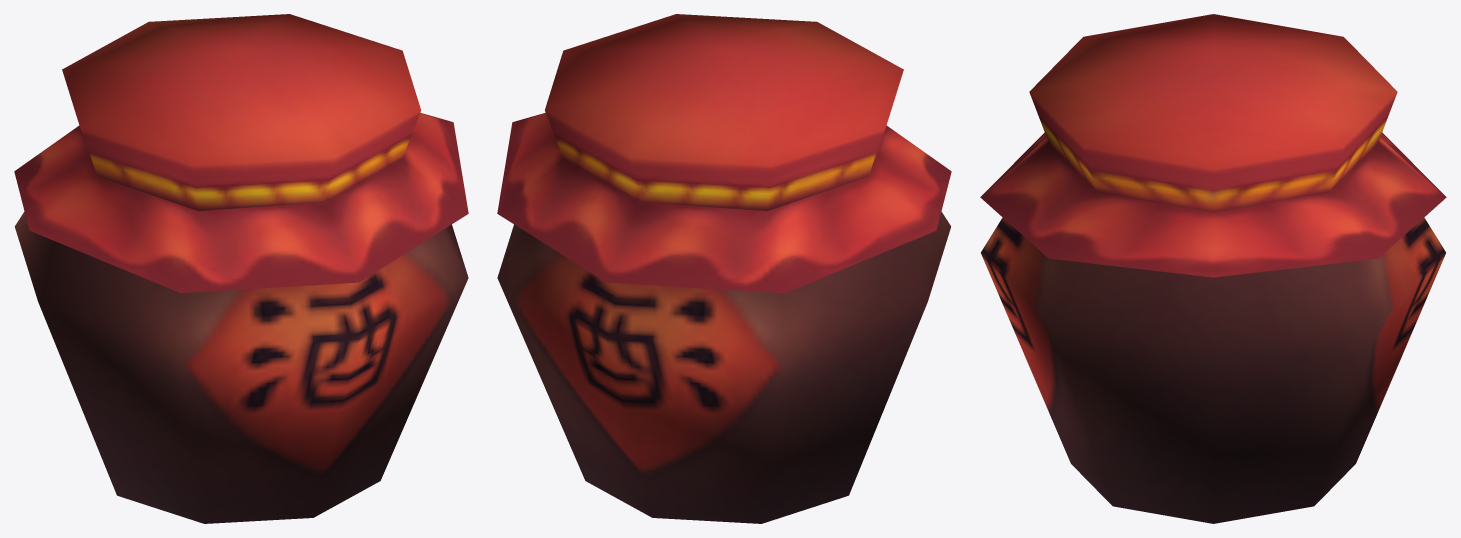
Rendered from Drop_Jiu_02_SM.FBX.
3 renders of one model, left to right at view 1: azimuth 30°, elevation 25°; view 2: azimuth 150°, elevation 25°; view 3: azimuth 270°, elevation 25°, orthographic.
Visible parts, largest first — view 1: Drop_Jiu_02; view 2: Drop_Jiu_02; view 3: Drop_Jiu_02.
Boxes of the visible parts, bbox=[...] form: Drop_Jiu_02: bbox=[14, 14, 468, 523]; Drop_Jiu_02: bbox=[497, 14, 951, 523]; Drop_Jiu_02: bbox=[980, 14, 1446, 523].
Bounding box in the file's own units: 53.25 × 49.9 × 51.19.
